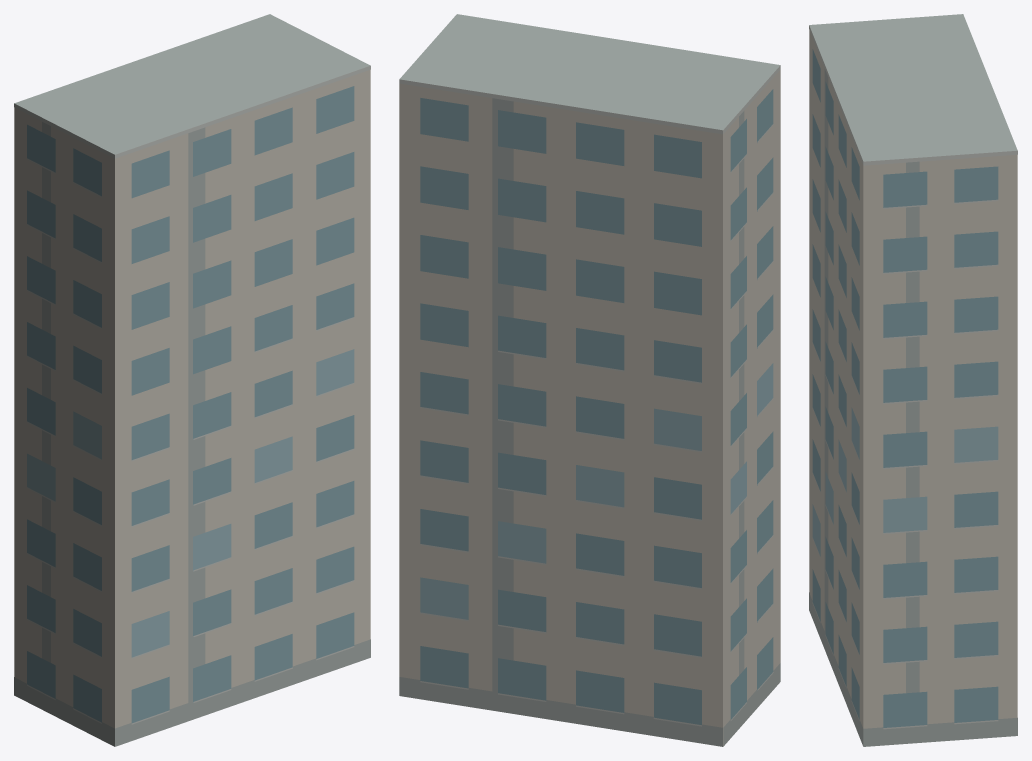
Rendered from residential-9681405b-7a39-48da-a023-950ab3b2fee4.glb.
3 views of the same model, side by side, from view 1: azimuth 30°, elevation 25°; view 2: azimuth 150°, elevation 25°; view 3: azimuth 270°, elevation 25° (orthographic). The views are drawn at different scales.
Parts seen in each view (by area): view 1: residential-9681405b-7a39-48da-a023-950ab3b2fee4.tmp; view 2: residential-9681405b-7a39-48da-a023-950ab3b2fee4.tmp; view 3: residential-9681405b-7a39-48da-a023-950ab3b2fee4.tmp.
Boxes of the visible parts, x1,y1,x2,y2 form: residential-9681405b-7a39-48da-a023-950ab3b2fee4.tmp: (14, 14, 370, 746); residential-9681405b-7a39-48da-a023-950ab3b2fee4.tmp: (399, 14, 780, 746); residential-9681405b-7a39-48da-a023-950ab3b2fee4.tmp: (809, 14, 1017, 746).
Bounding box in the file's own units: 19.49 × 36 × 11.64.
